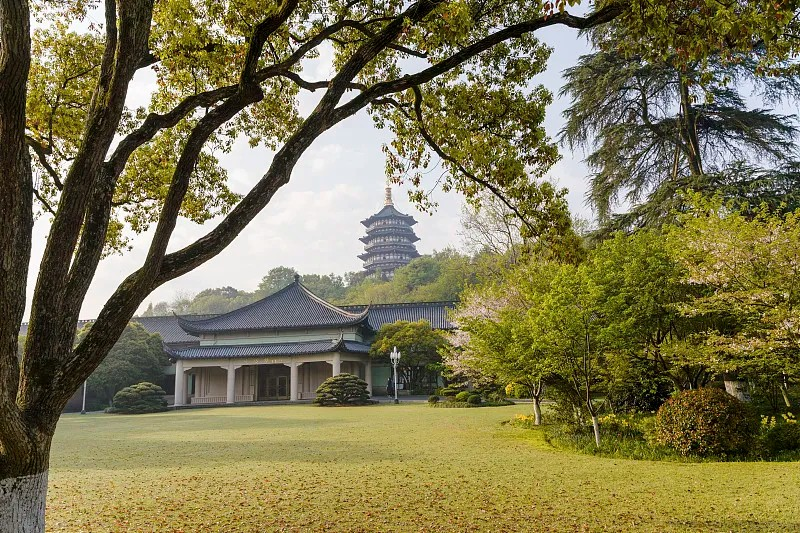Leifeng: (358, 182, 422, 279)
